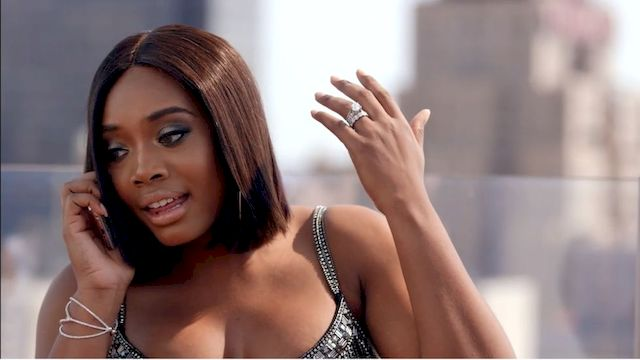phone: (77, 153, 121, 266)
talk: (58, 102, 219, 283)
